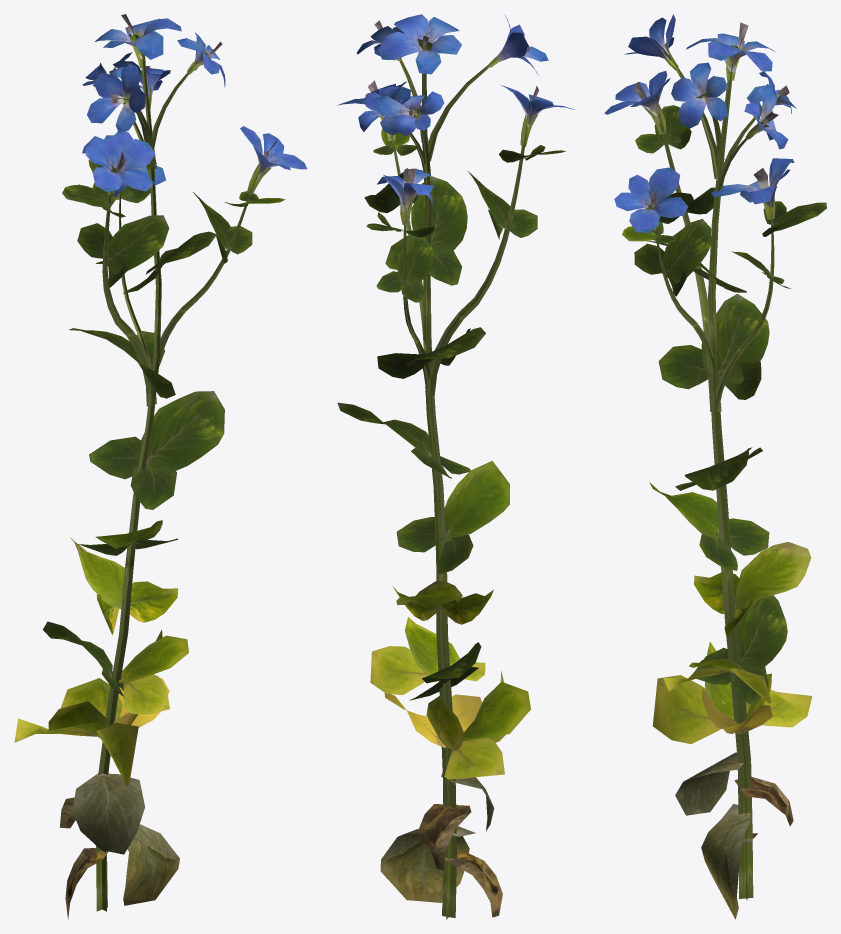
Rendered from Periwinkle_bush_normal_deepblue.glb.
The picture shows the model from 3 angles, left to right: view 1: azimuth 30°, elevation 25°; view 2: azimuth 150°, elevation 25°; view 3: azimuth 270°, elevation 25°; orthographic projection.
Parts seen in each view (by area): view 1: _b868_Var1_LOD1; view 2: _b868_Var1_LOD1; view 3: _b868_Var1_LOD1.
Boxes of the visible parts, bbox=[...] form: _b868_Var1_LOD1: bbox=[14, 14, 307, 919]; _b868_Var1_LOD1: bbox=[337, 14, 574, 919]; _b868_Var1_LOD1: bbox=[604, 14, 826, 919].
Size of the model in its own units: 0.7589 by 2.81 by 0.6398.
1 material, 1 textured.
